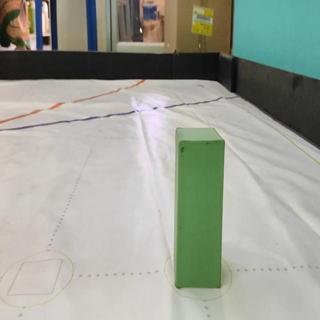greenbox: (175, 125, 226, 290)
